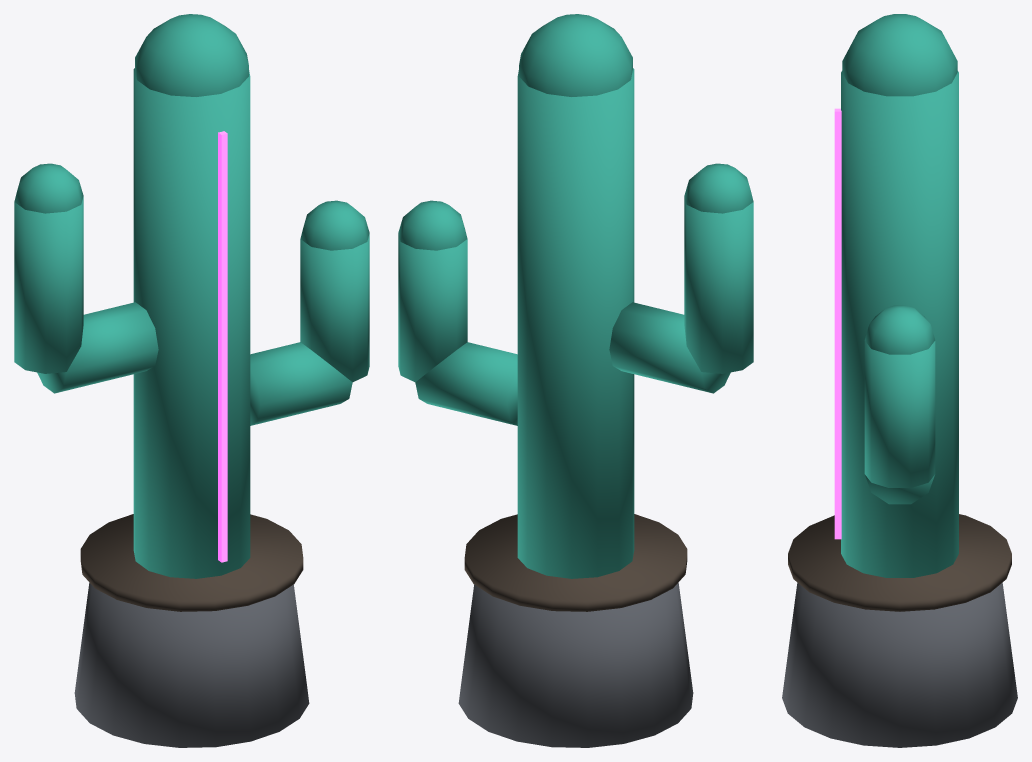
The model's file is plant_cactus_neon.glb.
The picture shows the model from 3 angles, left to right: view 1: azimuth 30°, elevation 25°; view 2: azimuth 150°, elevation 25°; view 3: azimuth 270°, elevation 25°; orthographic projection.
Parts seen in each view (by area): view 1: GD_plant_cactus_neon__m3, GD_plant_cactus_neon__m0, GD_plant_cactus_neon__m1, GD_plant_cactus_neon__m2; view 2: GD_plant_cactus_neon__m3, GD_plant_cactus_neon__m0, GD_plant_cactus_neon__m1; view 3: GD_plant_cactus_neon__m3, GD_plant_cactus_neon__m0, GD_plant_cactus_neon__m1, GD_plant_cactus_neon__m2.
Boxes of the visible parts, left/top/right/bottom form: GD_plant_cactus_neon__m3: left=14, top=14, right=369, bottom=578; GD_plant_cactus_neon__m0: left=74, top=582, right=309, bottom=747; GD_plant_cactus_neon__m1: left=80, top=514, right=303, bottom=611; GD_plant_cactus_neon__m2: left=218, top=131, right=227, bottom=562; GD_plant_cactus_neon__m3: left=398, top=14, right=753, bottom=578; GD_plant_cactus_neon__m0: left=458, top=582, right=693, bottom=747; GD_plant_cactus_neon__m1: left=464, top=514, right=687, bottom=611; GD_plant_cactus_neon__m3: left=841, top=14, right=958, bottom=577; GD_plant_cactus_neon__m0: left=782, top=582, right=1017, bottom=747; GD_plant_cactus_neon__m1: left=788, top=514, right=1011, bottom=611; GD_plant_cactus_neon__m2: left=834, top=108, right=841, bottom=539.
Size of the model in its own units: 0.6741 by 1.27 by 0.4.
